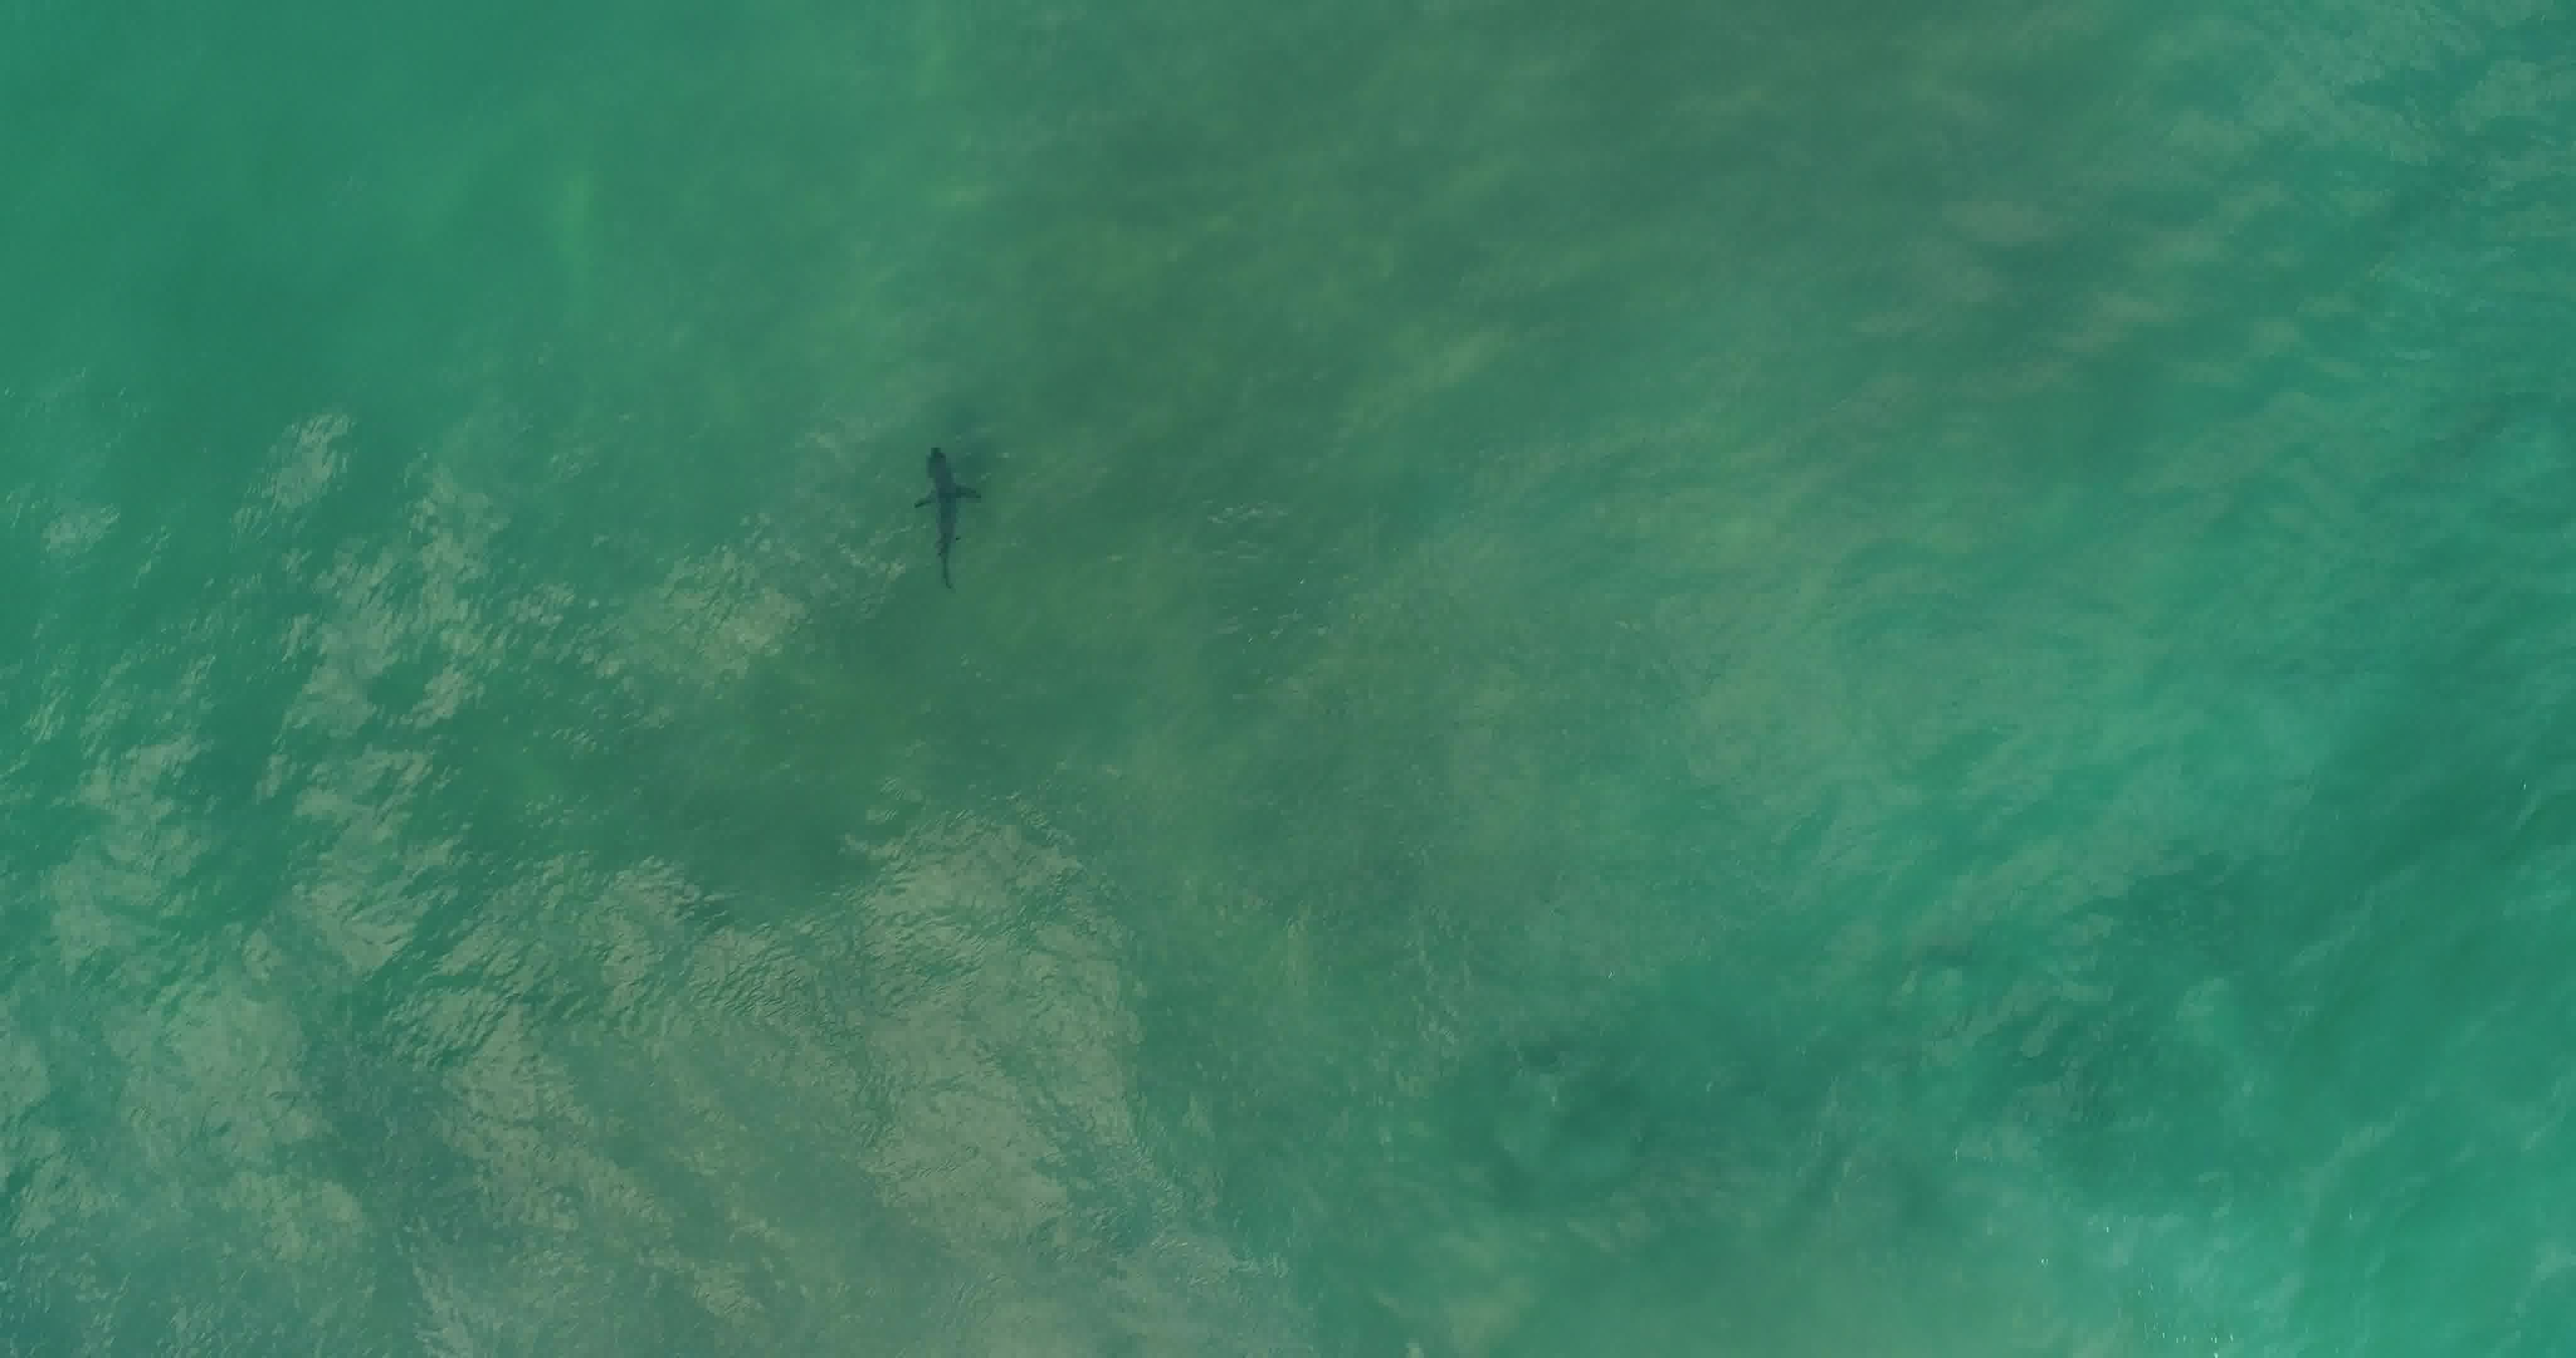shark: (903, 441, 988, 601)
